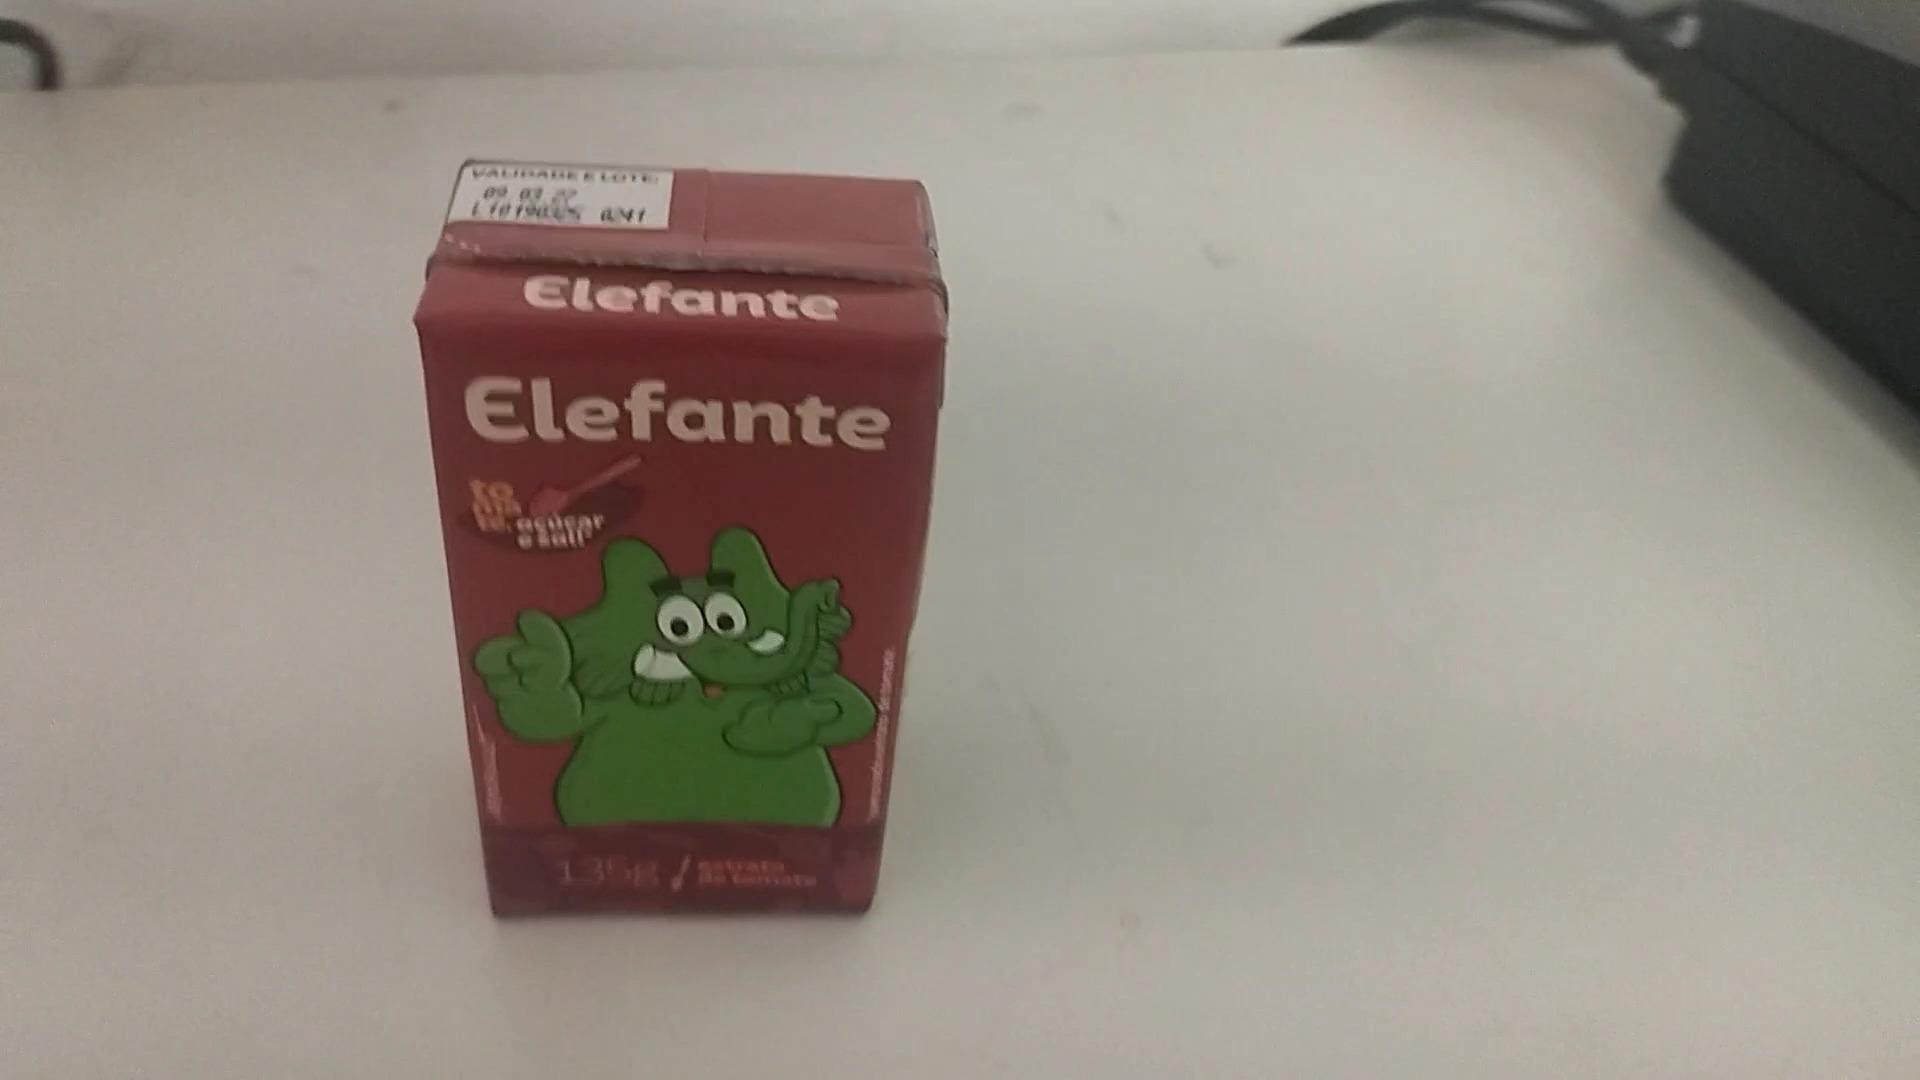tomate: (409, 145, 968, 919)
